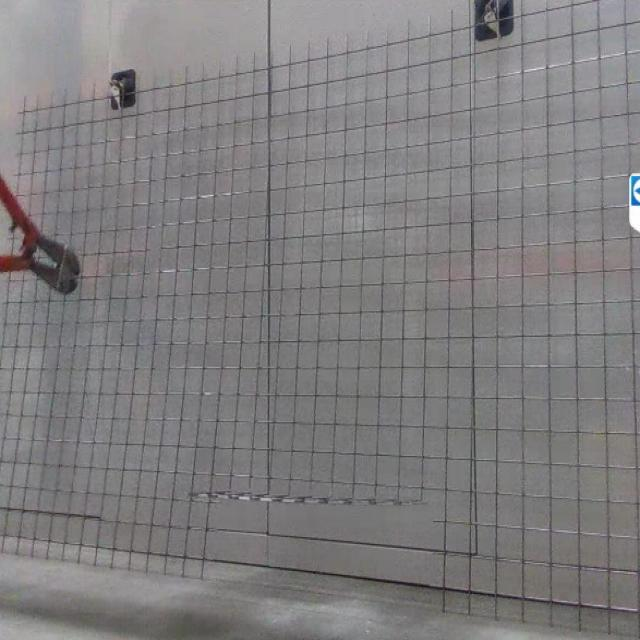fence line: (208, 492, 459, 600)
